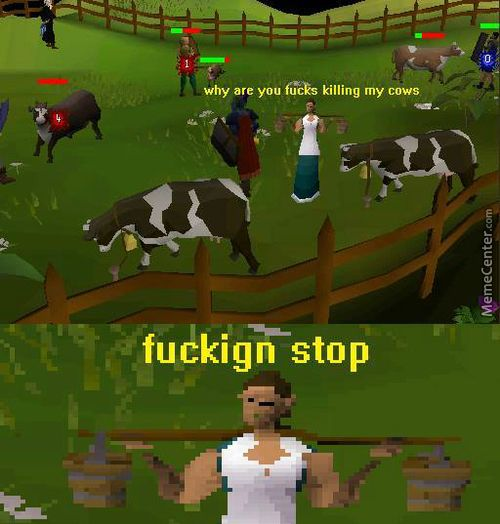rs_cow: (81, 177, 267, 281), (335, 126, 482, 204), (31, 88, 105, 157), (388, 39, 462, 82)
rs_healthbar: (198, 55, 233, 64), (35, 77, 69, 86), (412, 33, 448, 40), (171, 27, 202, 34), (479, 23, 500, 29)
rs_player: (215, 91, 263, 190), (284, 98, 324, 205), (475, 32, 500, 90), (176, 35, 200, 94)
